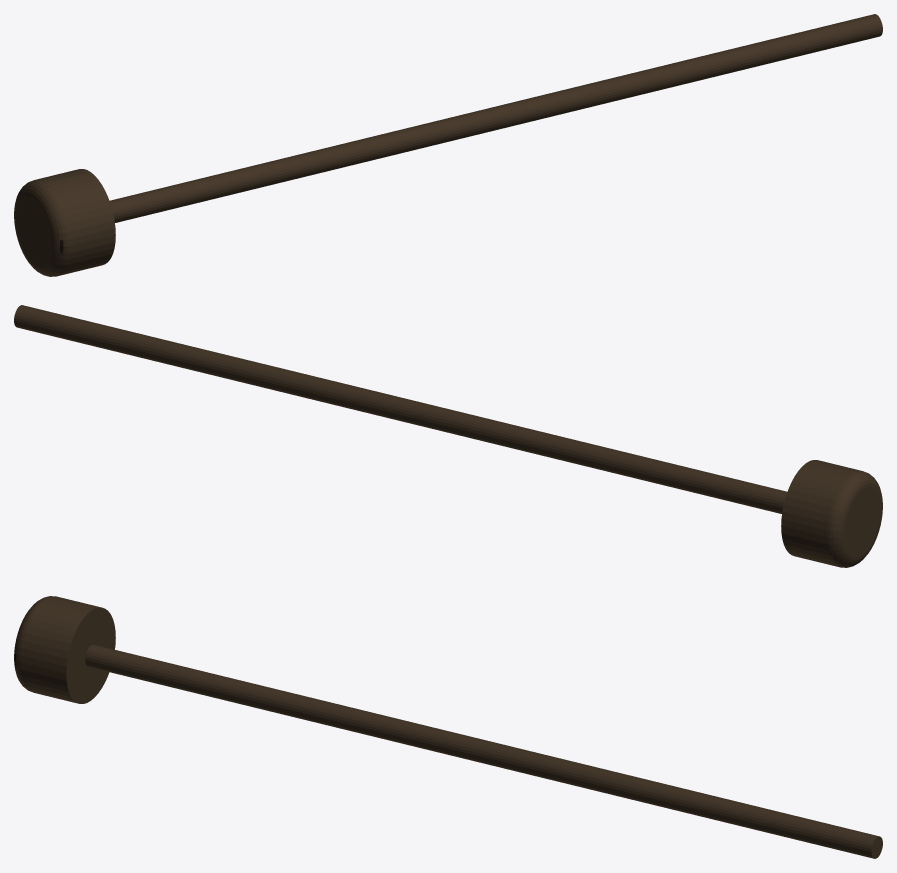
Rendered from marble_labyrinth_stick.fbx.
3 views of the same model, one above another, from view 1: azimuth 30°, elevation 25°; view 2: azimuth 150°, elevation 25°; view 3: azimuth 330°, elevation 25° (orthographic).
Parts seen in each view (by area): view 1: Mb Stick; view 2: Mb Stick; view 3: Mb Stick.
Boxes of the visible parts, x1=… form: Mb Stick: x1=14, y1=14, x2=882, y2=276; Mb Stick: x1=14, y1=305, x2=882, y2=567; Mb Stick: x1=14, y1=596, x2=882, y2=858.
Bounding box in the file's own units: 2950 × 300 × 300.
Materials: 1 (1 with a texture image).
